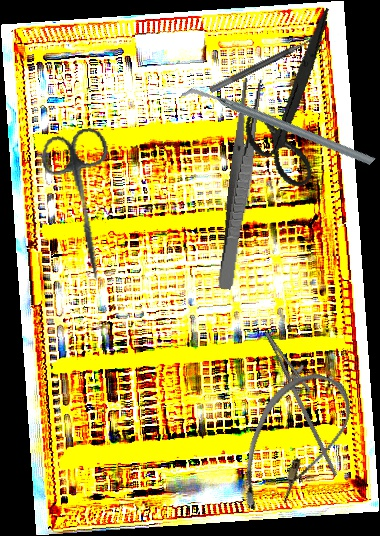Cannula: (227, 360, 361, 530)
Chopper: (180, 29, 376, 226)
Dressing Forceps: (216, 77, 264, 291)
Fixation Ring: (208, 32, 327, 103)
Iris Scissors: (219, 7, 372, 197), (36, 125, 133, 287)
Needle Holder: (247, 324, 365, 477)
